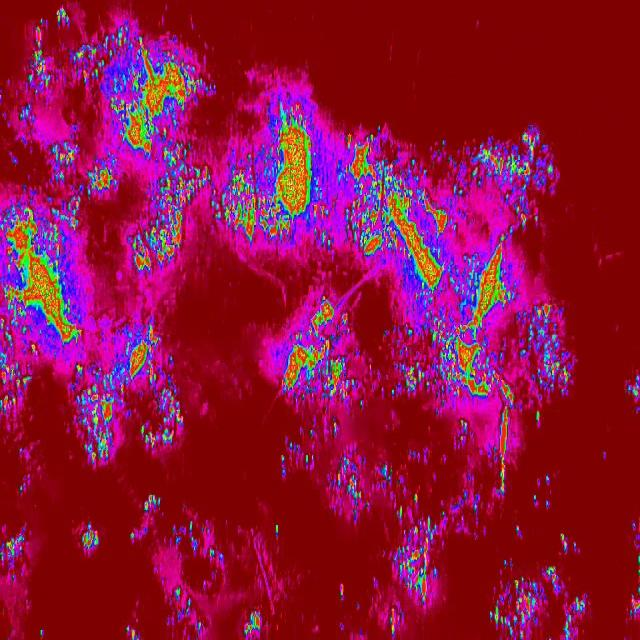fire: (204, 74, 574, 422), (0, 2, 211, 460), (275, 418, 510, 594), (67, 495, 271, 640), (475, 497, 590, 640), (1, 500, 32, 570), (625, 539, 640, 620), (380, 597, 401, 640), (622, 370, 640, 420)
